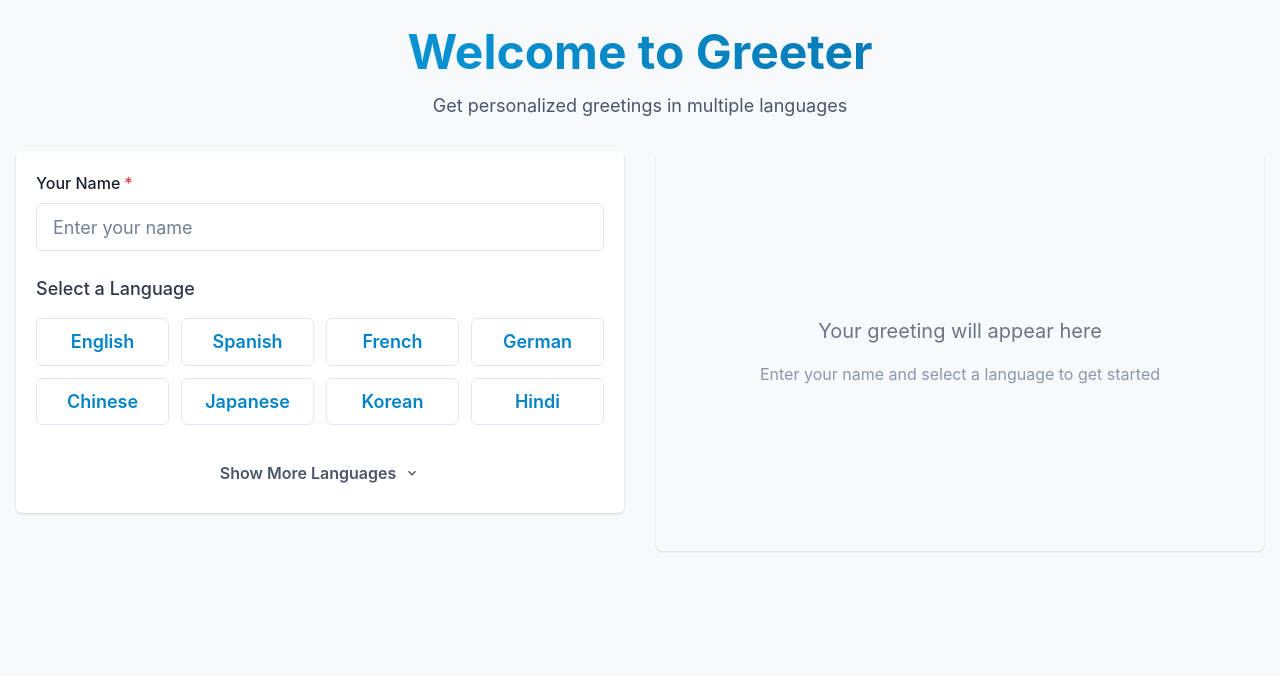
Scenario: Home Component › shows more languages when clicking show more
Click the button "Show More Languages" at (320, 473), box top-left (36, 453), bottom-right (604, 493)
(page scrolled)
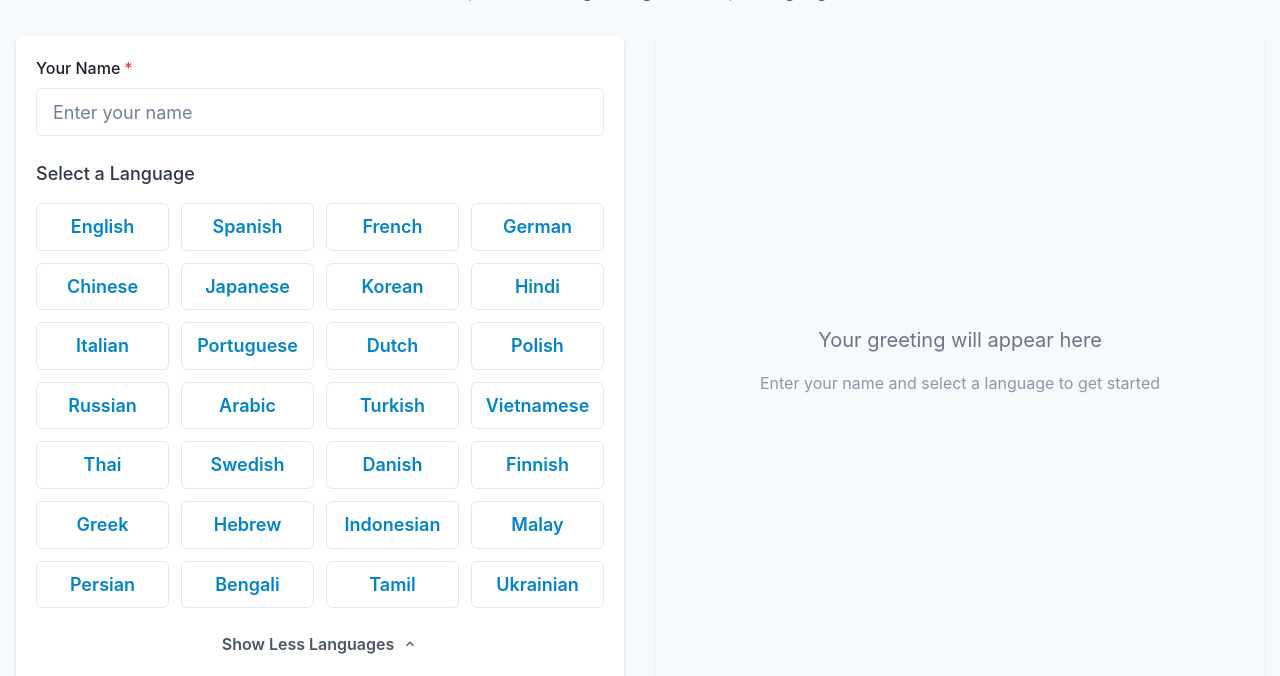
Expected: the button "Greek" is shown, top-left (36, 501), bottom-right (169, 549)
Now the button "Show Less Languages" is shown, box top-left (36, 624), bottom-right (604, 664)
